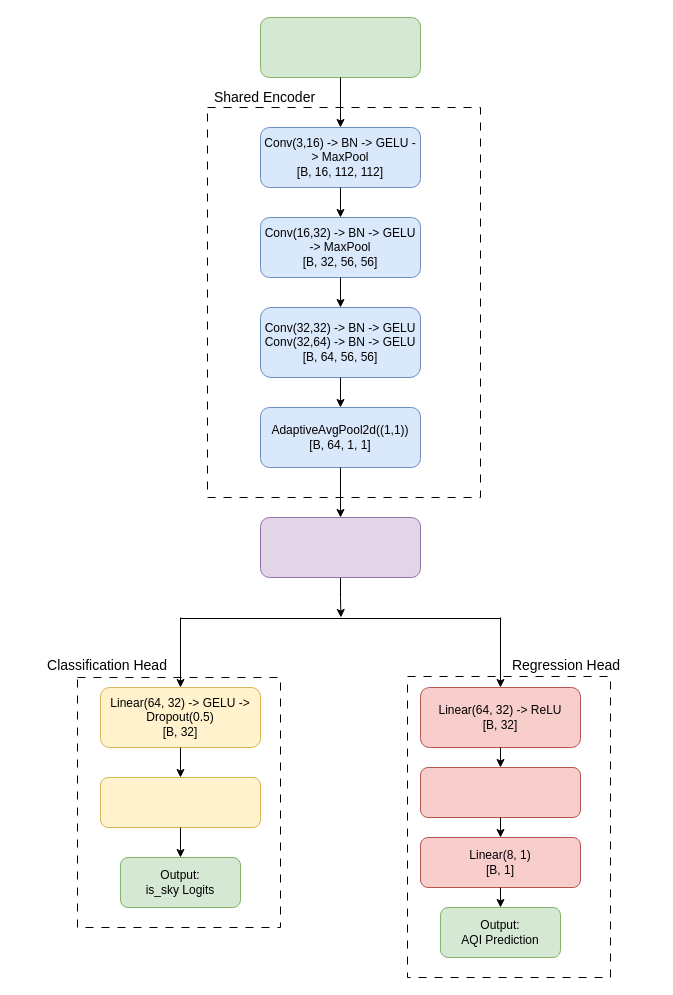
Image size: 673x995. Some labels were removed from this diagram. Each missing label, with the box of its shape:
Input Image [B, 3, 224, 224]: (260, 16, 420, 78)
Linear(32, 2) [B, 2]: (100, 776, 260, 828)
Linear(32, 8) -> ReLU [B, 8]: (420, 766, 580, 818)
Shared Feature Vector [B, 64]: (260, 516, 420, 578)
